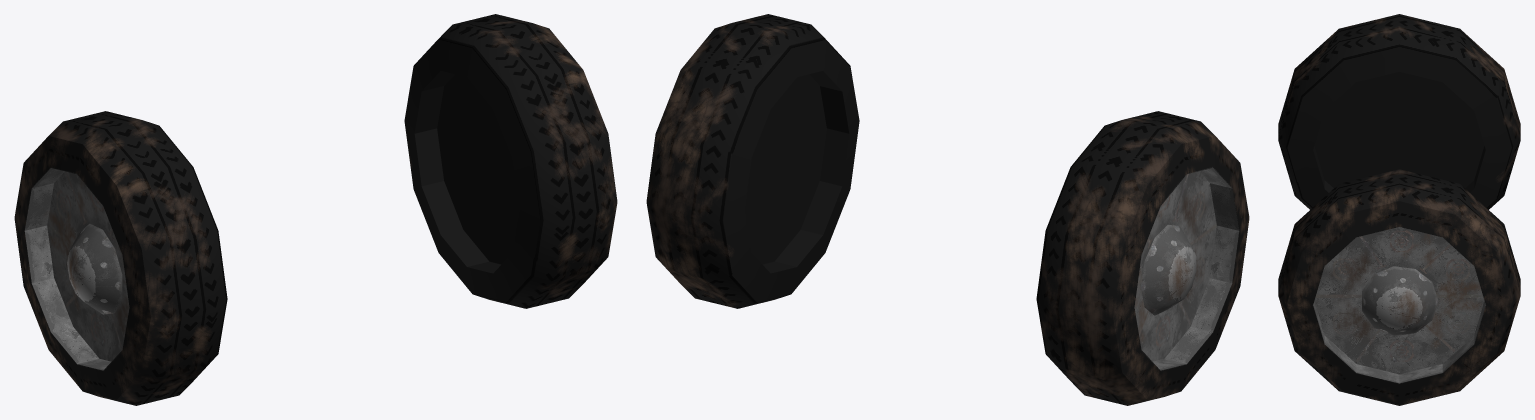
File: LEG_CHIBI_TIRES.fbx
The picture shows the model from 3 angles, left to right: view 1: azimuth 30°, elevation 25°; view 2: azimuth 150°, elevation 25°; view 3: azimuth 270°, elevation 25°; orthographic projection. The views are drawn at different scales.
Visible parts, largest first — view 1: LEG_TIRE_RIGHT, LEG_TIRE_LEFT; view 2: LEG_TIRE_LEFT, LEG_TIRE_RIGHT; view 3: LEG_TIRE_LEFT, LEG_TIRE_RIGHT.
Part boxes in pixels (<box>): LEG_TIRE_RIGHT: <box>14,111,227,405</box>; LEG_TIRE_LEFT: <box>404,14,617,308</box>; LEG_TIRE_LEFT: <box>646,14,859,308</box>; LEG_TIRE_RIGHT: <box>1036,111,1249,405</box>; LEG_TIRE_LEFT: <box>1278,169,1520,405</box>; LEG_TIRE_RIGHT: <box>1278,14,1520,209</box>.
Size of the model in its own units: 0.0399 by 0.0211 by 0.021.
